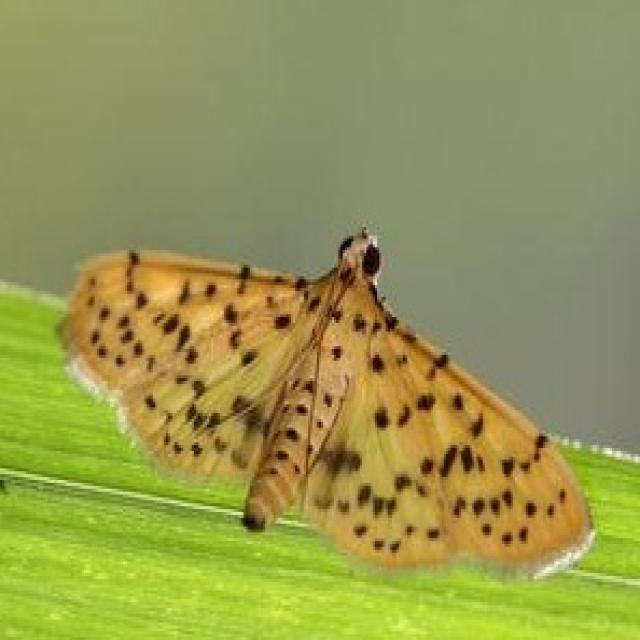peach borer: (48, 213, 609, 586)
